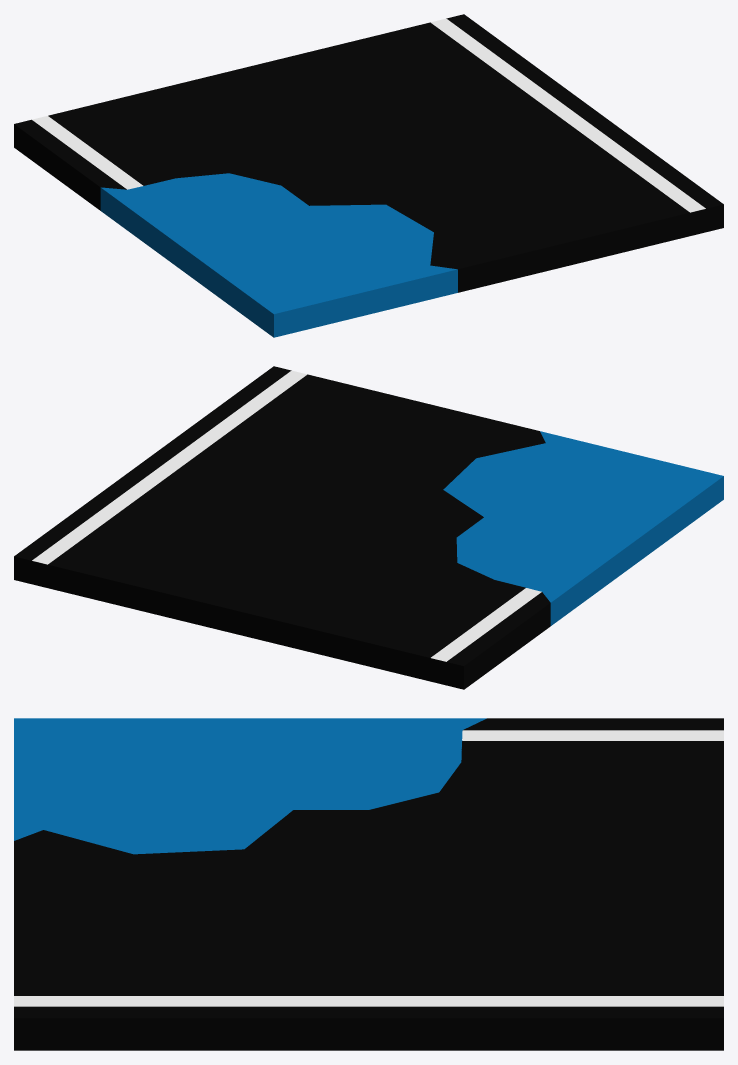
Rendered from icetile2.fbx.
3 renders of one model, top to bottom at view 1: azimuth 30°, elevation 25°; view 2: azimuth 150°, elevation 25°; view 3: azimuth 270°, elevation 25°, orthographic. The views are drawn at different scales.
Visible parts, largest first — view 1: Cube.001, Cube.002; view 2: Cube.001, Cube.002; view 3: Cube.001, Cube.002.
Boxes of the visible parts, box(x1,y1,x2,y2) form: Cube.001: box(14, 14, 723, 292); Cube.002: box(100, 173, 457, 337); Cube.001: box(14, 366, 550, 689); Cube.002: box(443, 431, 723, 625); Cube.001: box(14, 718, 723, 1050); Cube.002: box(14, 718, 486, 854).
Size of the model in its own units: 20 by 1 by 20.
